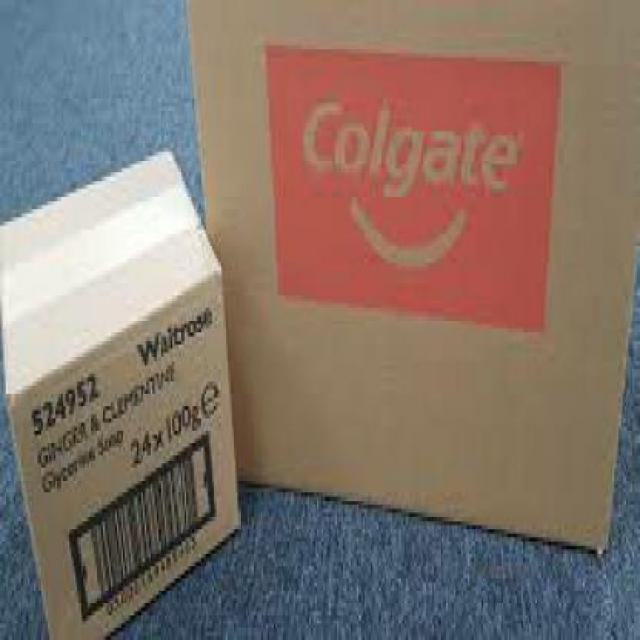box: (182, 0, 638, 571), (3, 144, 245, 636)
